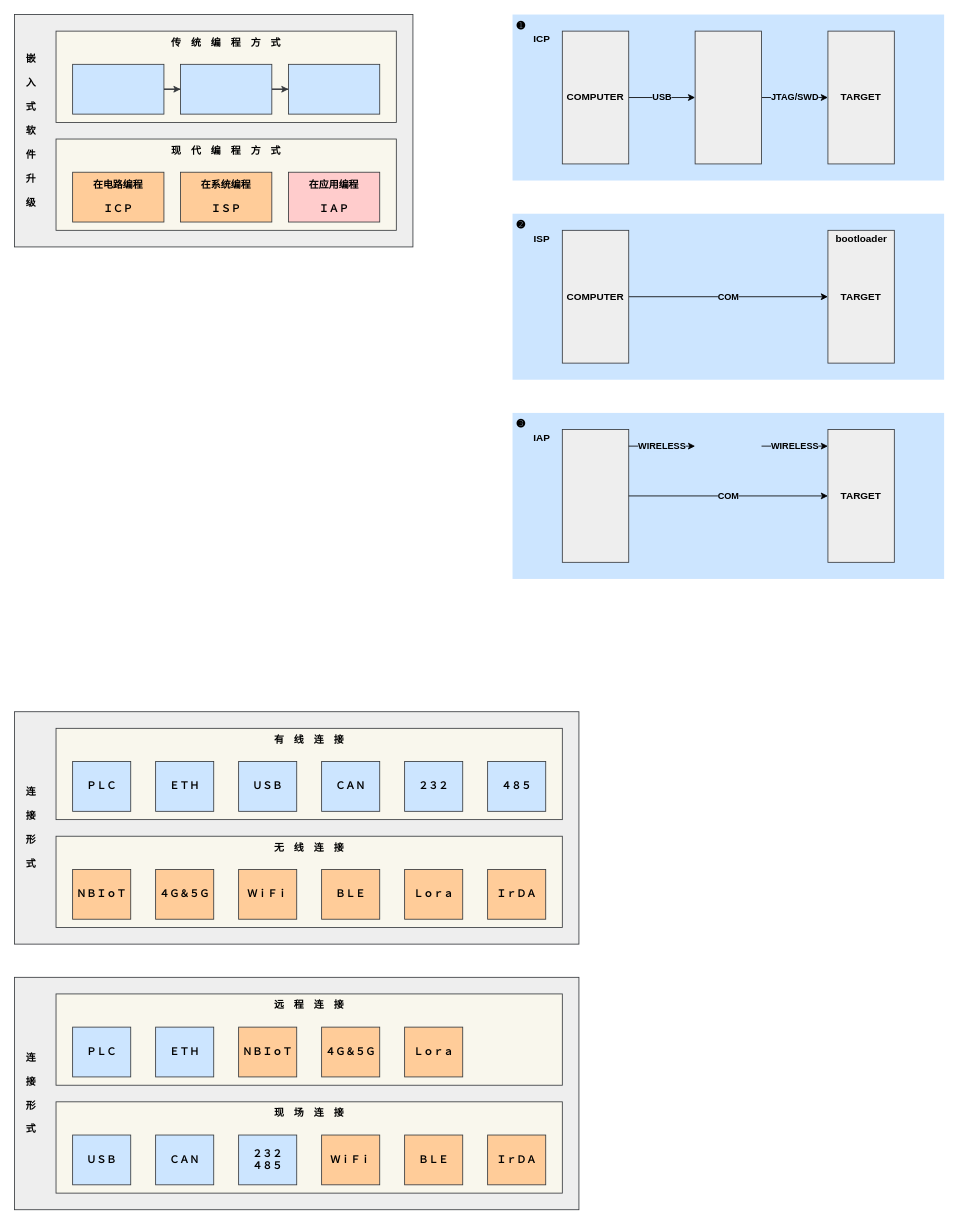
The diagram is 959 pixels wide and 1224 high, and some of its shapes have lost their labels. Here are the shapes that lost their labels. From the top down, the centre of each, then its label:
At [118,88]: "取下芯片".
At [226,88]: "烧录程序".
At [334,88]: "装回板卡".
At [728,97]: "JLINK".
At [595,495]: "PLATFORM COMPUTER".
